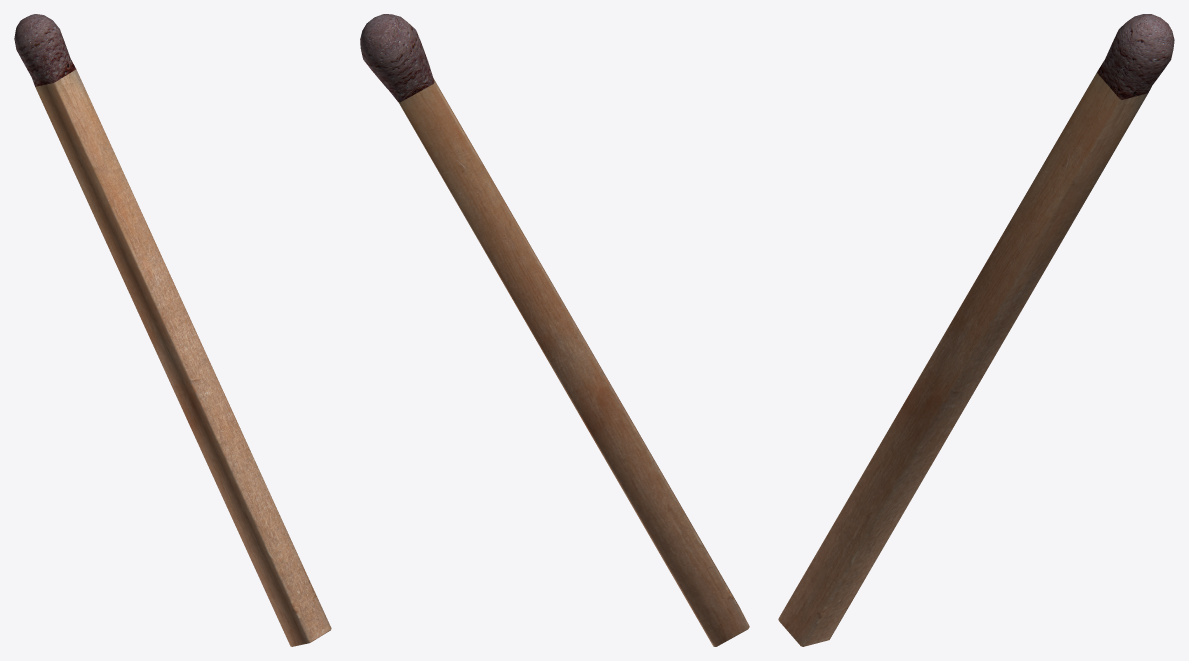
Rendered from cc0_match.glb.
3 views of the same model, side by side, from view 1: azimuth 90°, elevation 25°; view 2: azimuth 150°, elevation 25°; view 3: azimuth 270°, elevation 25° (orthographic). The views are drawn at different scales.
Parts seen in each view (by area): view 1: Match; view 2: Match; view 3: Match.
Part boxes in pixels (bbox=[...]): Match: bbox=[14, 14, 331, 646]; Match: bbox=[360, 14, 749, 646]; Match: bbox=[778, 14, 1174, 646].
Bounding box in the file's own units: 0.0142 × 0.0447 × 0.0227.
1 material, 1 textured.
